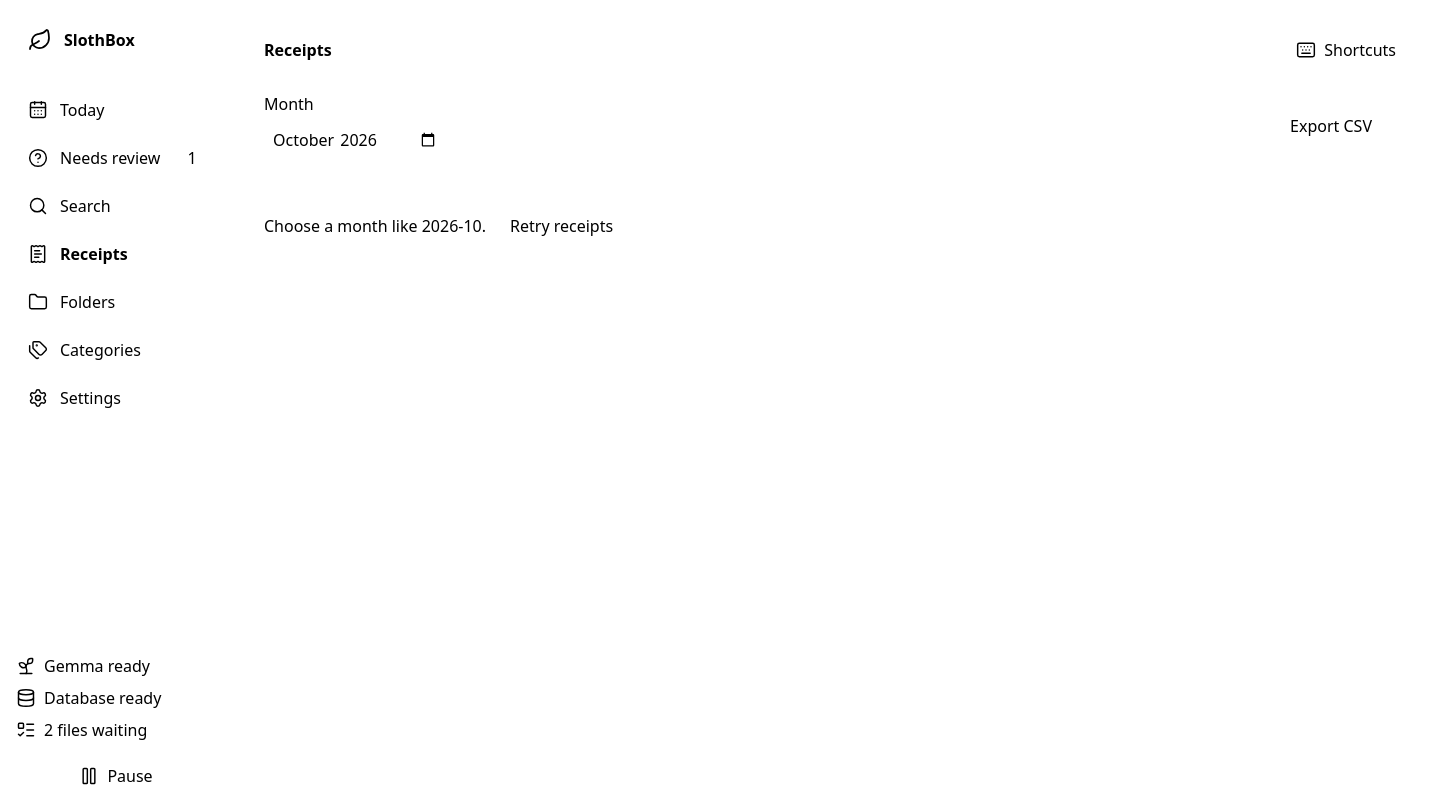
receipt API refusals show their ProblemDetails title for the ledger and the CSV export
Expected: the text "Choose a month like 2026-10." is shown, [264,214,486,238]
What coordinates should you click on to do the following:
click the button "Retry receipts"
I would click on:
 (562, 226)
Its box is [498,208,625,244].
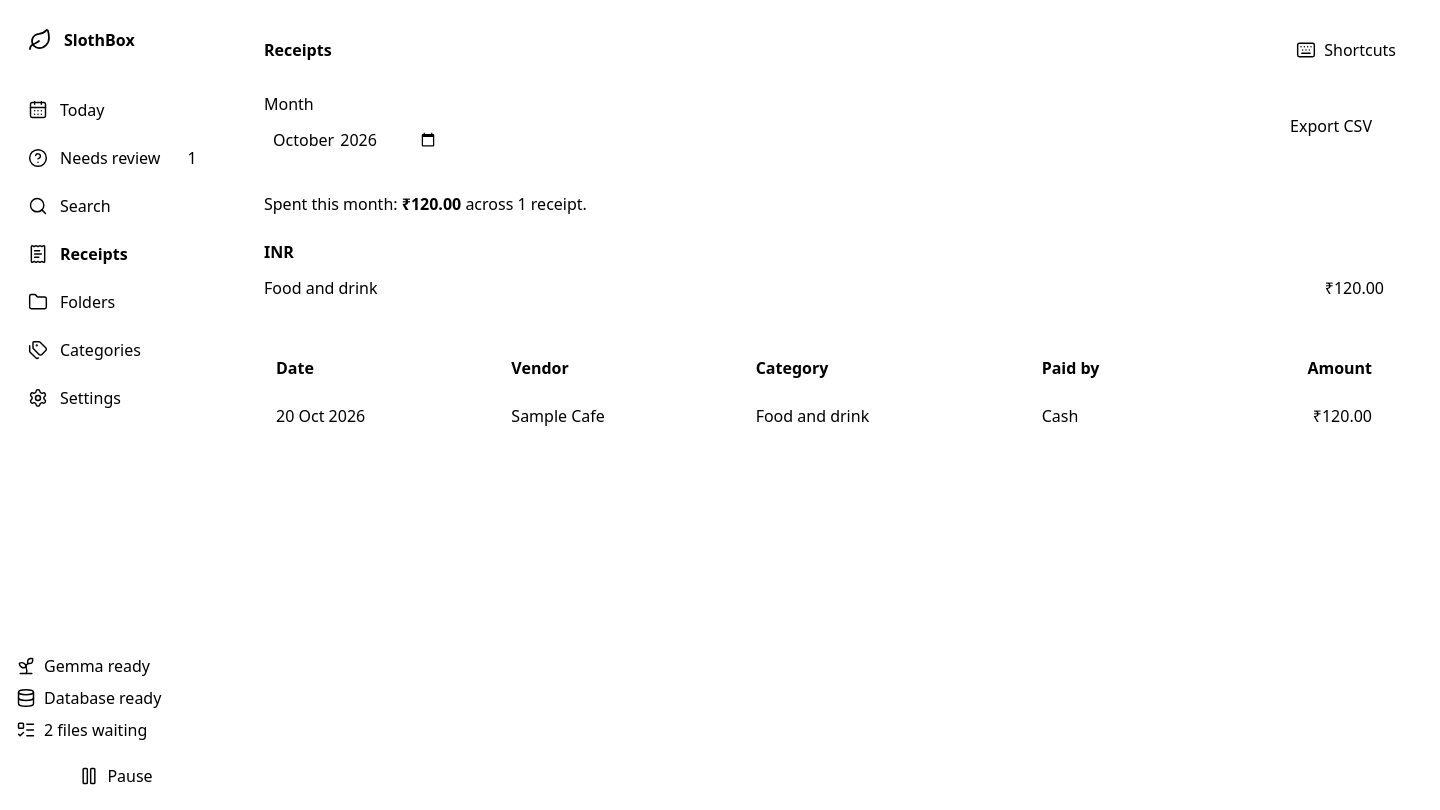
What coordinates should you click on to do the following:
click the link "Export CSV"
I would click on:
 (1331, 126)
Its box is [1290,115,1372,137].
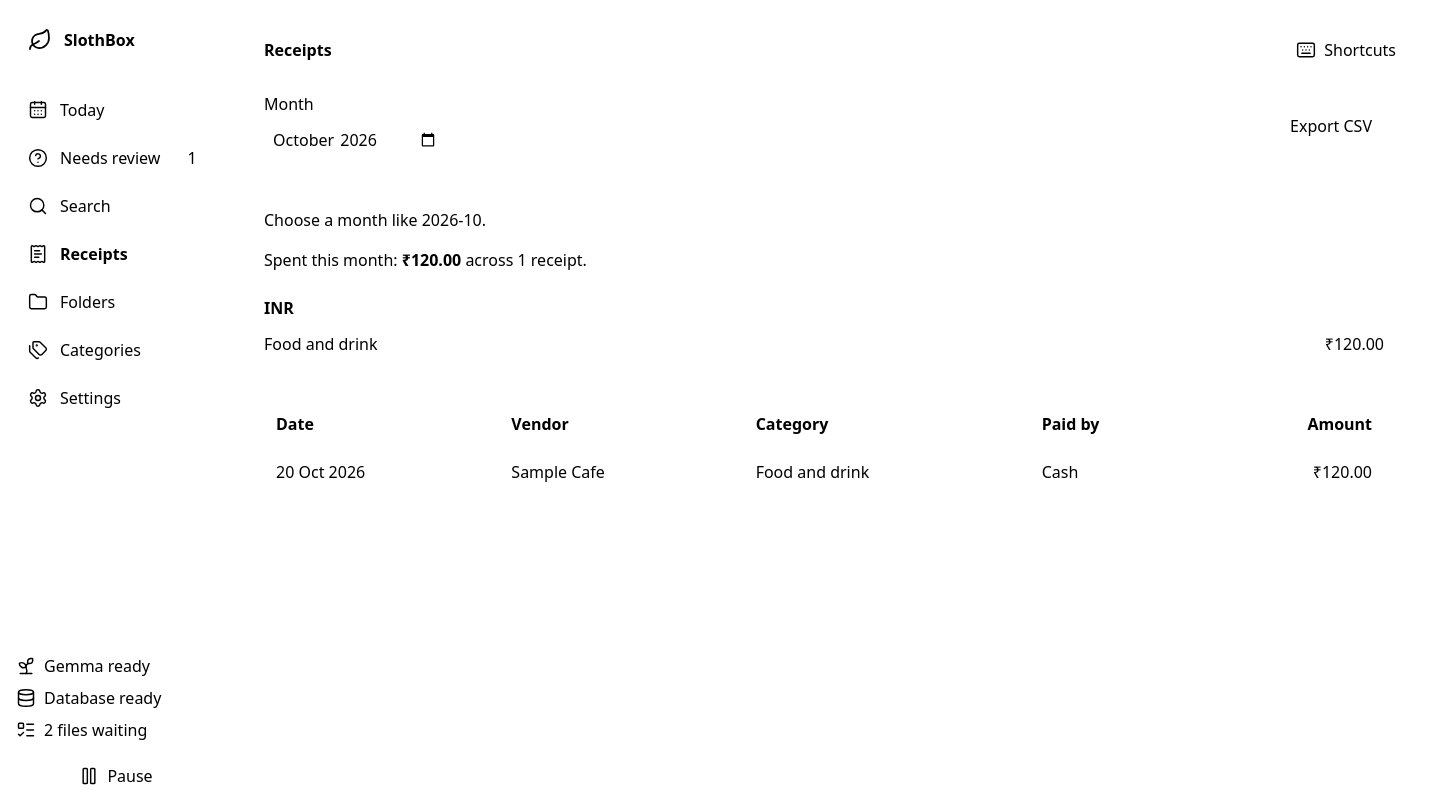
Result: the message reads "Choose a month like 2026-10." at [264,209,486,231]
